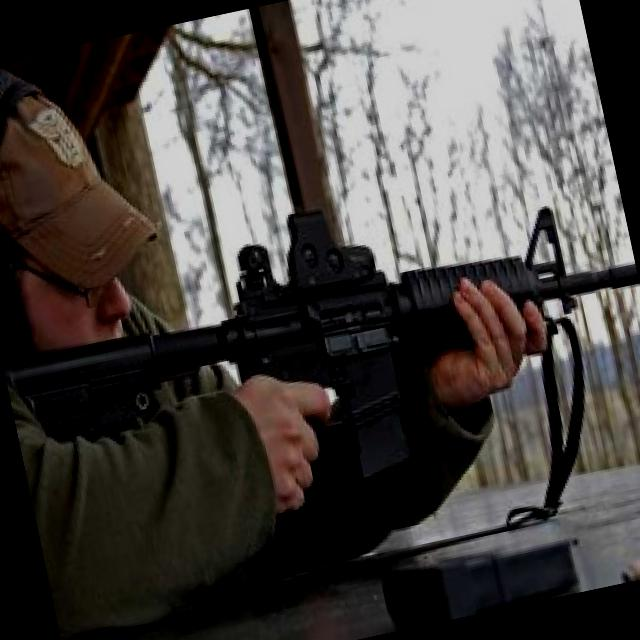long weapon: (161, 173, 639, 517)
